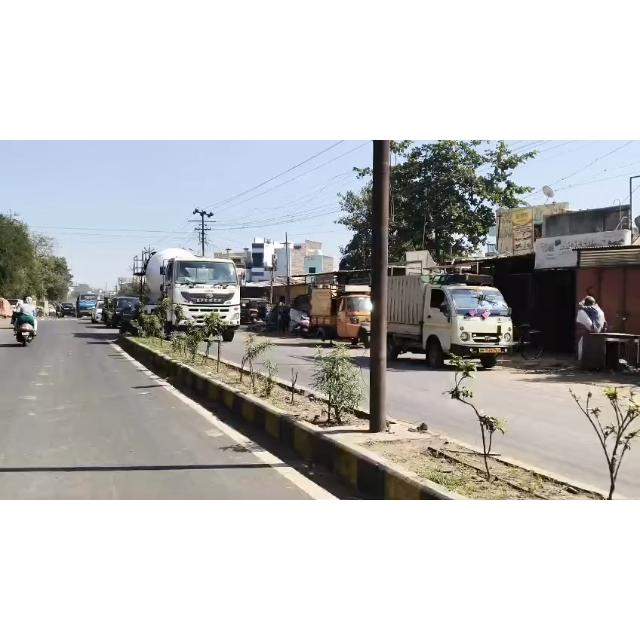car: (106, 291, 150, 329)
truck: (391, 268, 533, 374), (145, 249, 295, 345), (79, 298, 99, 314)
